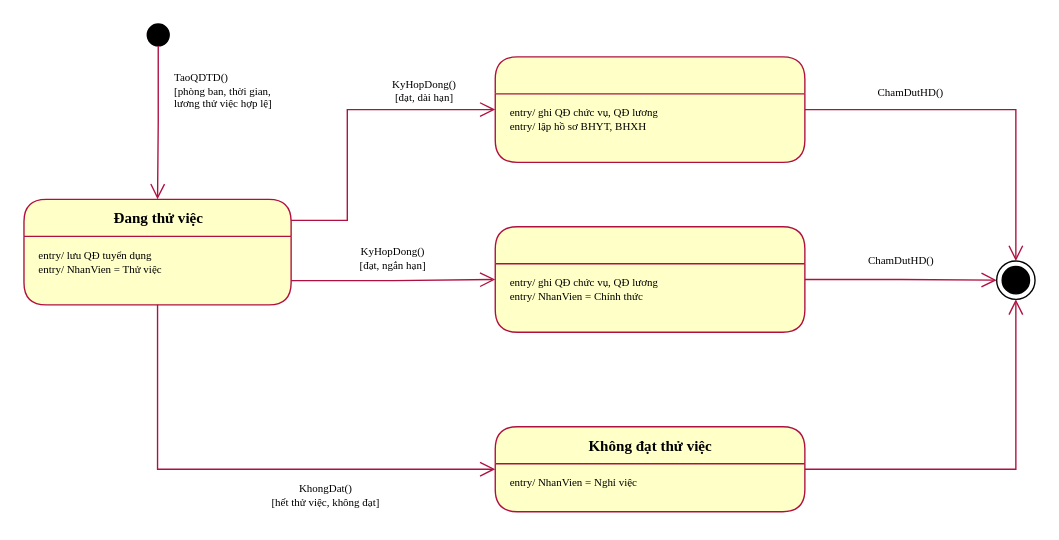
Some shapes in this 1059 by 540 pixel diagram are drawn without their labels. The shapes that lost their labels are listed below. From the top down, each one's box as (x1, y1, x2, y2) in pixels, then its label:
(494, 55, 805, 162): Hợp đồng dài hạn
(494, 225, 805, 332): Hợp đồng ngắn hạn
